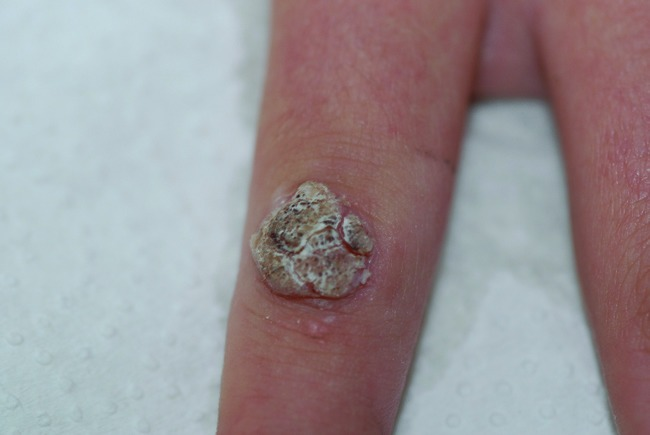Warts: (252, 162, 385, 327)
